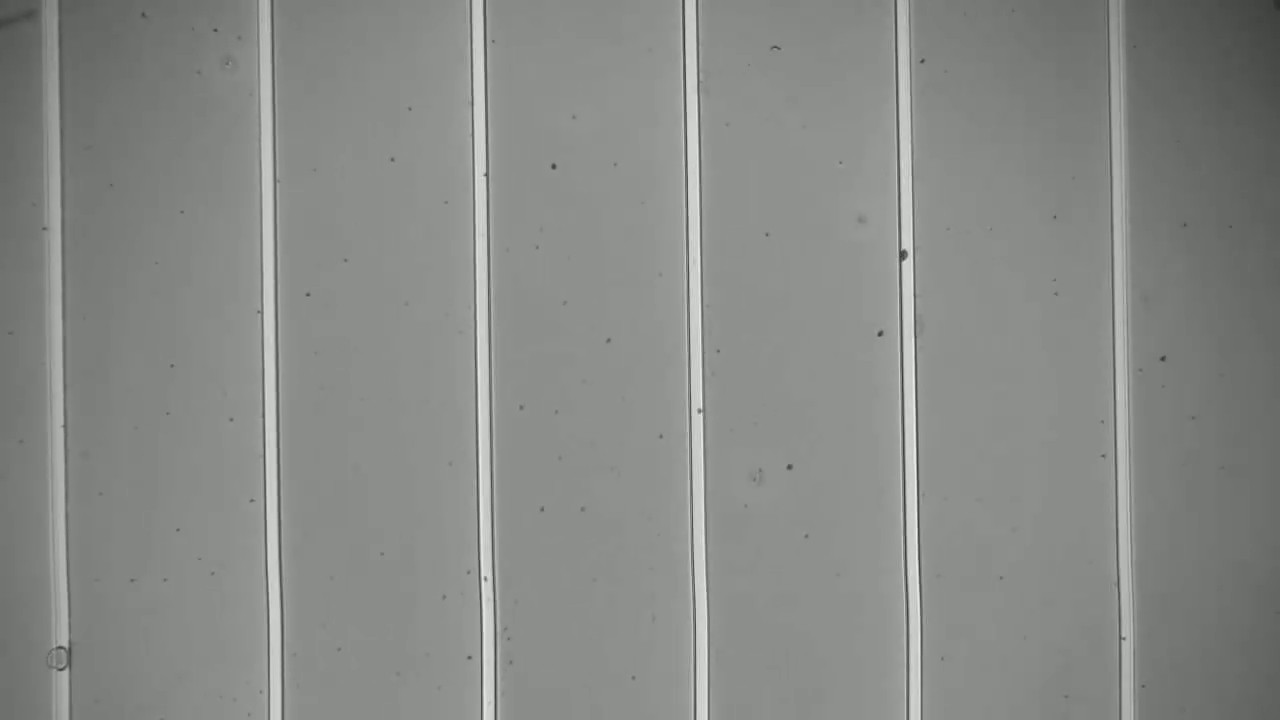stains_enbedded: (892, 241, 921, 265)
